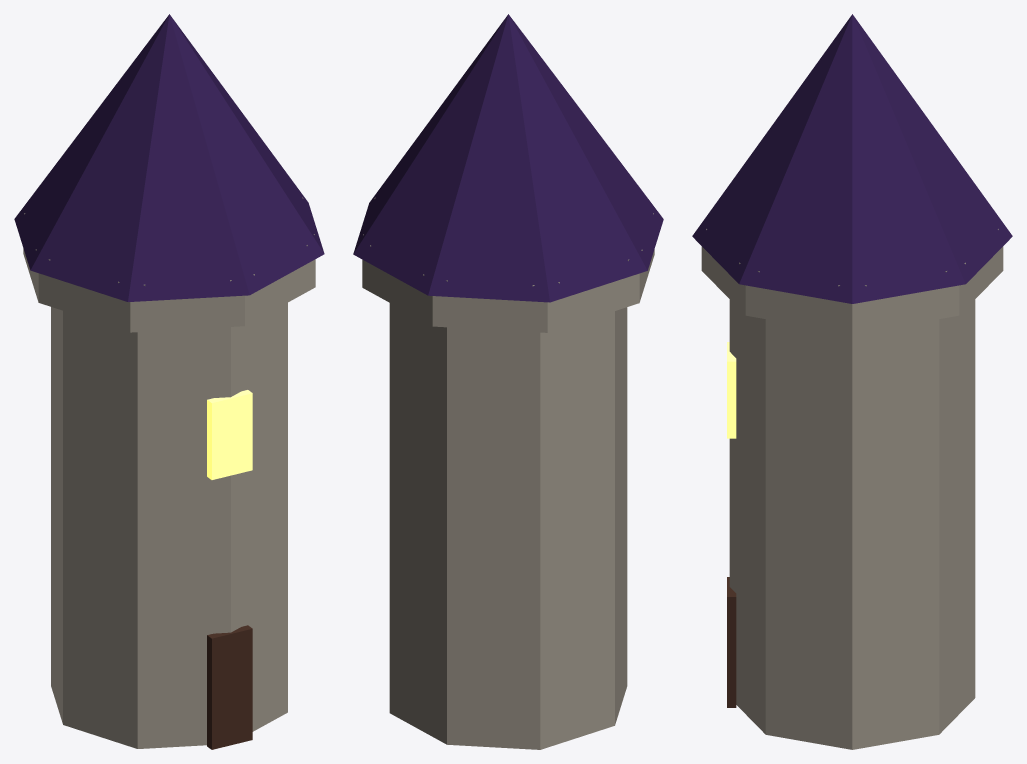
The model's file is witch_tower.glb.
3 views of the same model, side by side, from view 1: azimuth 30°, elevation 25°; view 2: azimuth 150°, elevation 25°; view 3: azimuth 270°, elevation 25° (orthographic).
Visible parts, largest first — view 1: witch_tower; view 2: witch_tower; view 3: witch_tower.
Part boxes in pixels (left/top/right/bottom): witch_tower: left=14, top=14, right=324, bottom=749; witch_tower: left=353, top=14, right=663, bottom=749; witch_tower: left=692, top=14, right=1012, bottom=749.
Size of the model in its own units: 3.4 by 8 by 3.4.
